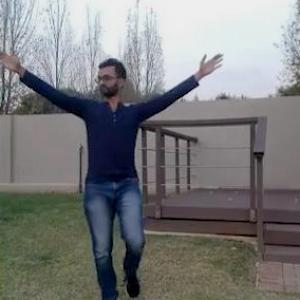takeoff: (0, 51, 235, 299)
